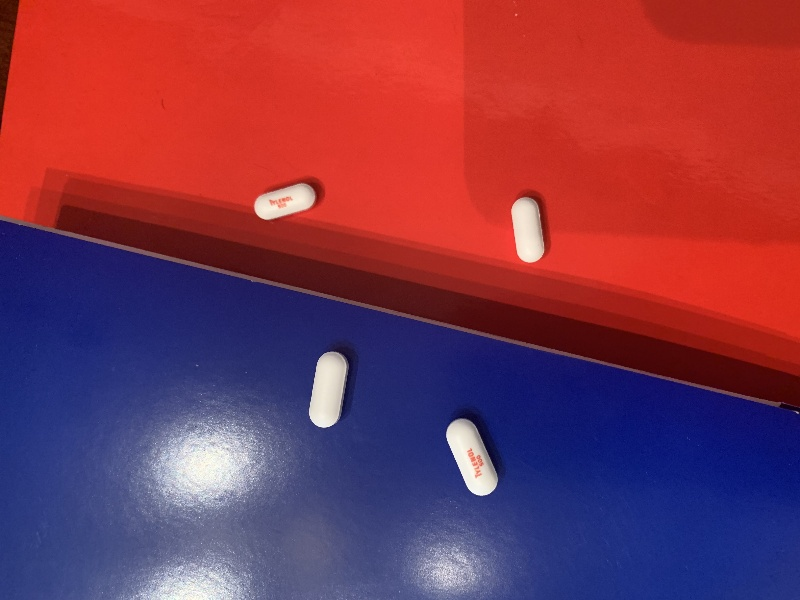Tylenol: (442, 411, 507, 508), (304, 345, 357, 432), (247, 175, 320, 223), (508, 195, 554, 270)
